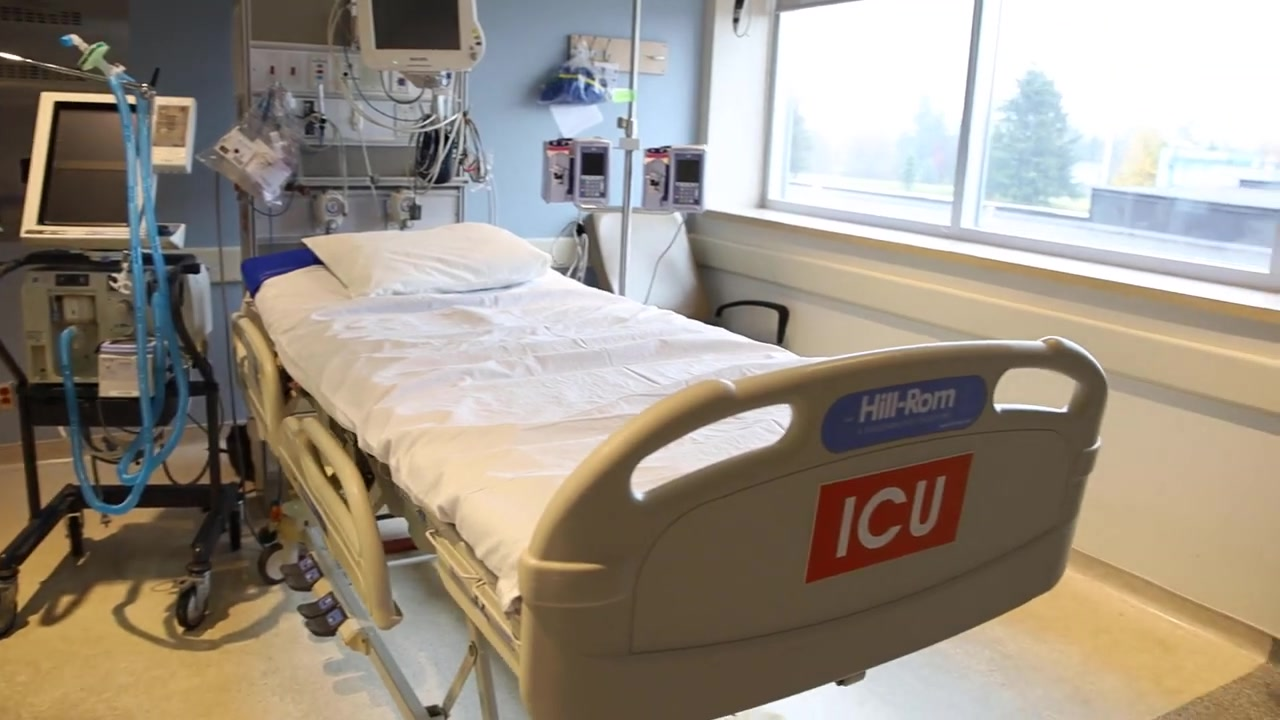bedrail: (276, 416, 402, 631), (231, 312, 278, 451)
bedside_monitor: (354, 1, 480, 72)
breathing_tube: (57, 32, 190, 516)
chair: (582, 210, 788, 347)
foot_board: (517, 334, 1108, 720)
hospital_bed: (230, 223, 1113, 720)
infusion_pump: (539, 138, 610, 211), (642, 146, 707, 210)
iv_pole: (619, 1, 642, 296)
ventilator: (19, 91, 216, 412), (227, 1, 469, 258)
